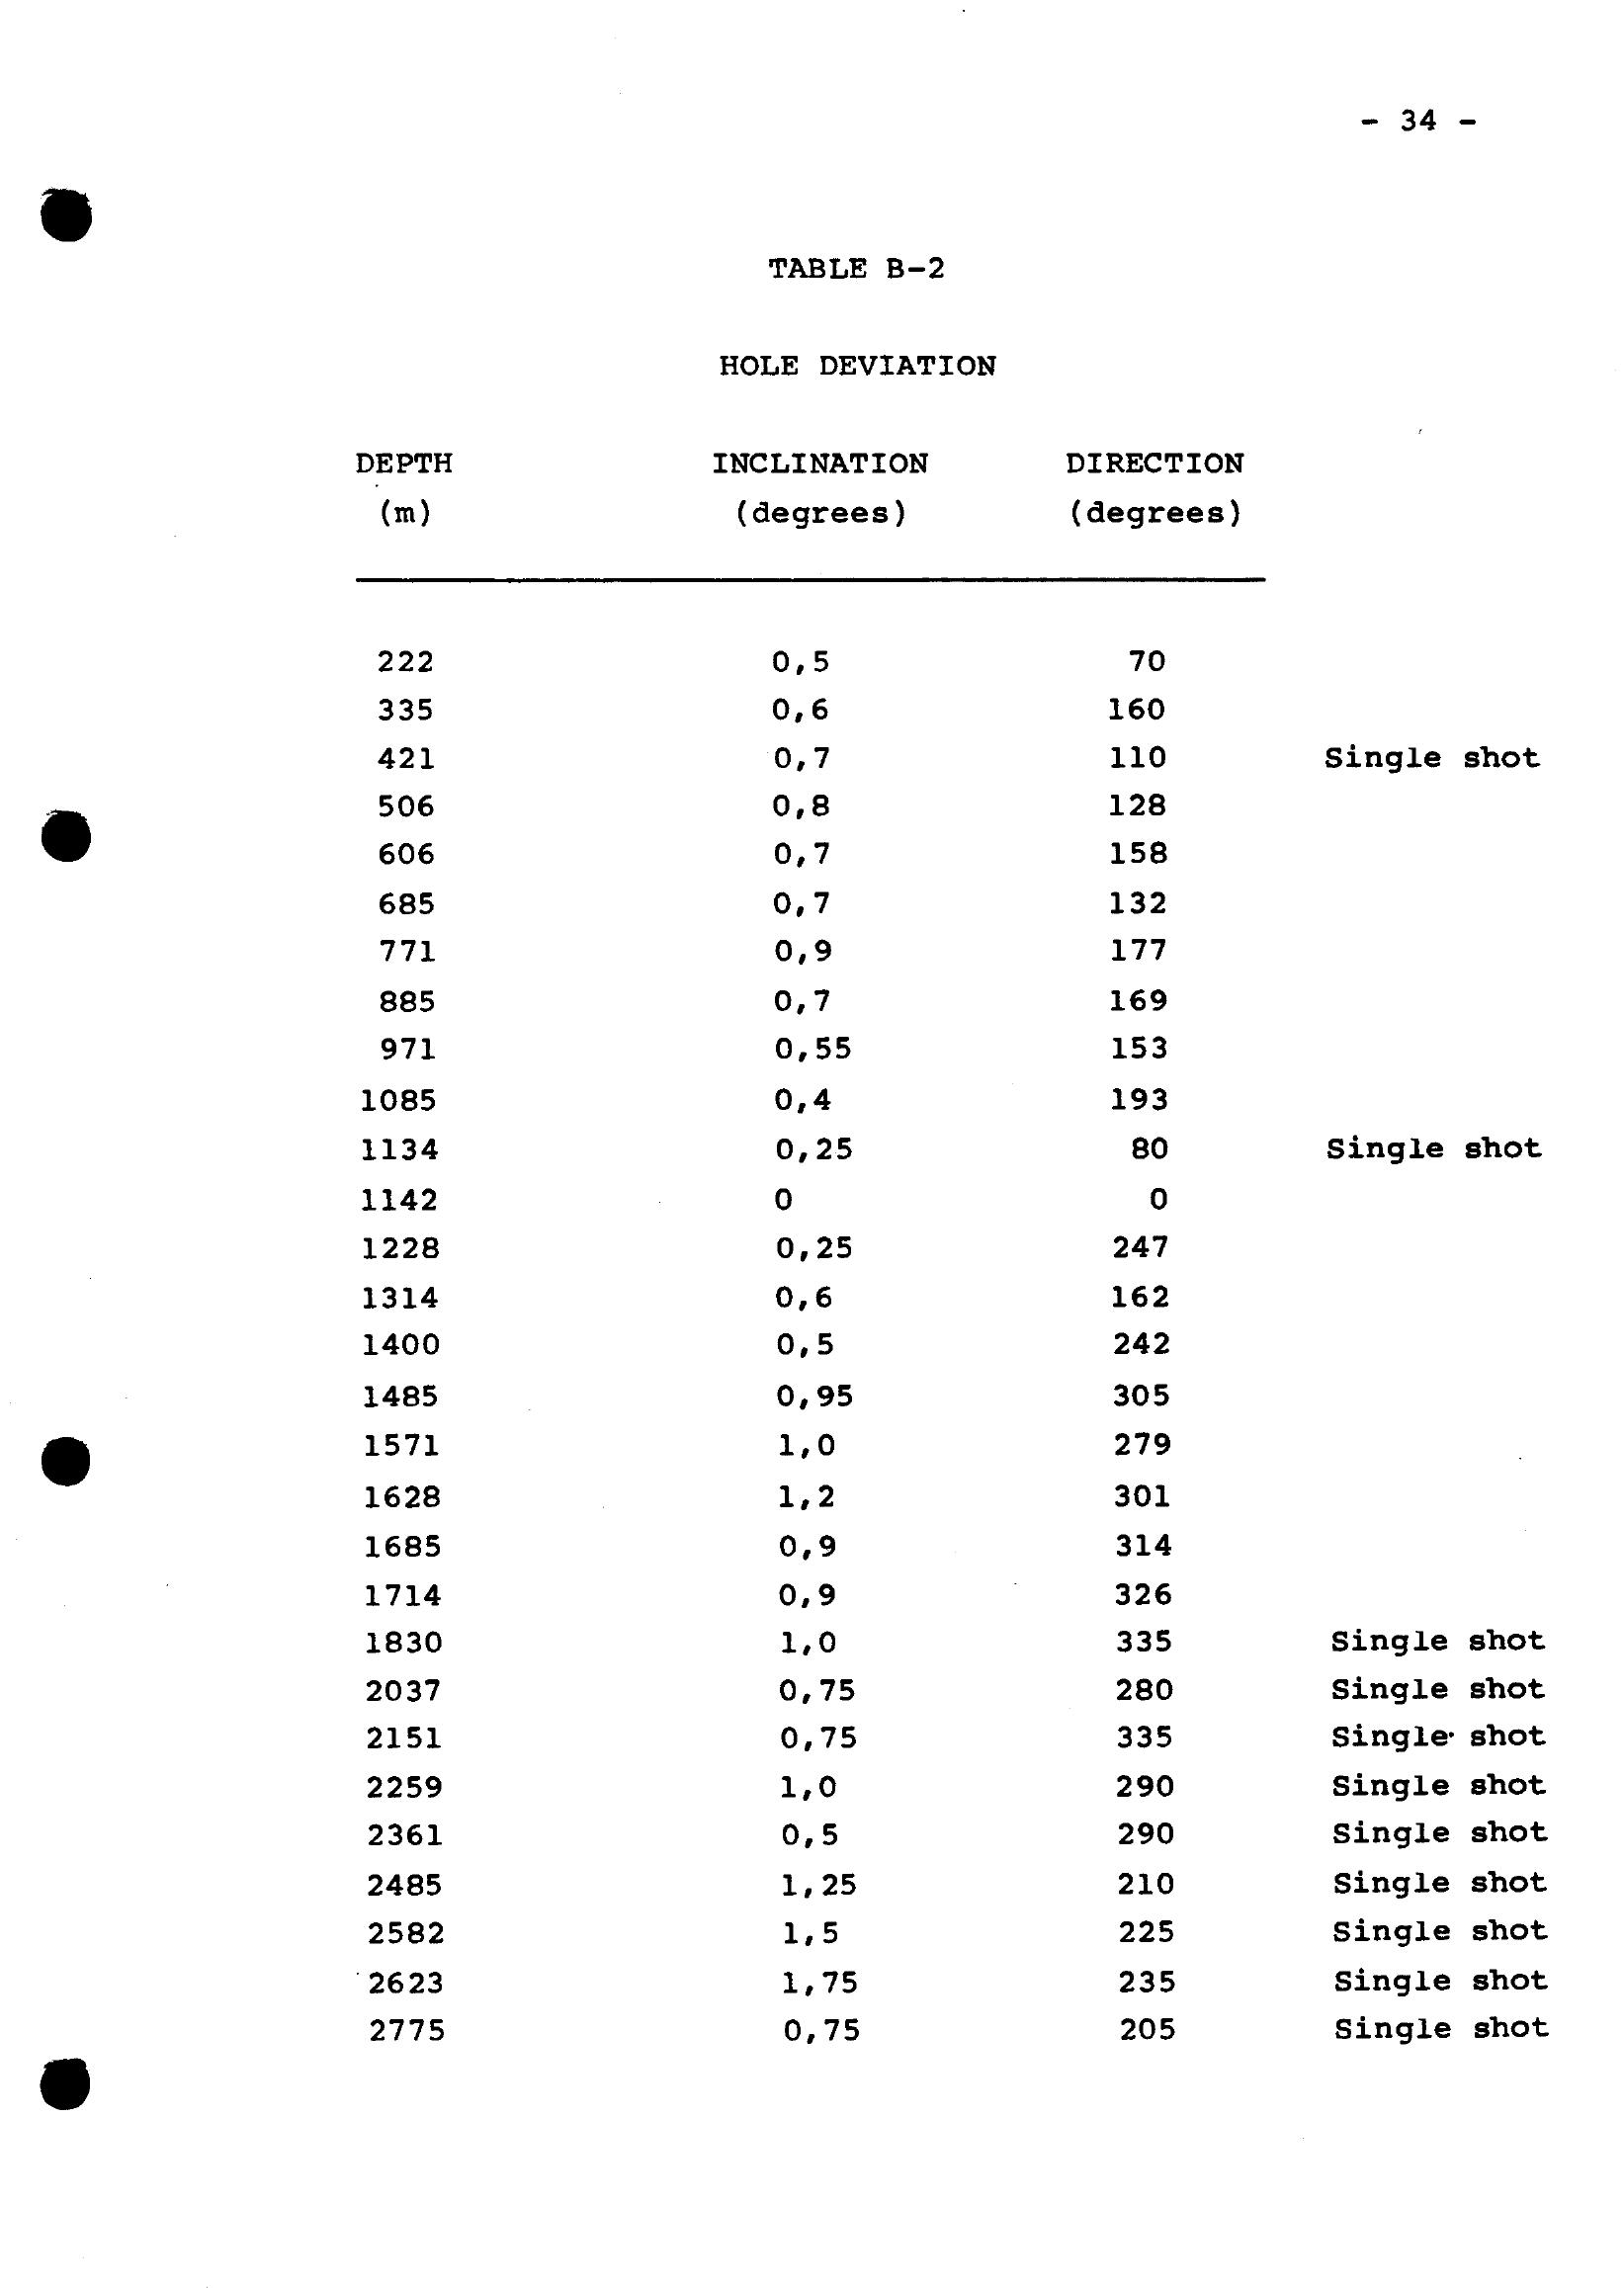table: (302, 329, 1309, 2135)
text: (1316, 1620, 1573, 2053), (1320, 722, 1554, 791), (1313, 1118, 1548, 1181), (759, 248, 960, 293)
